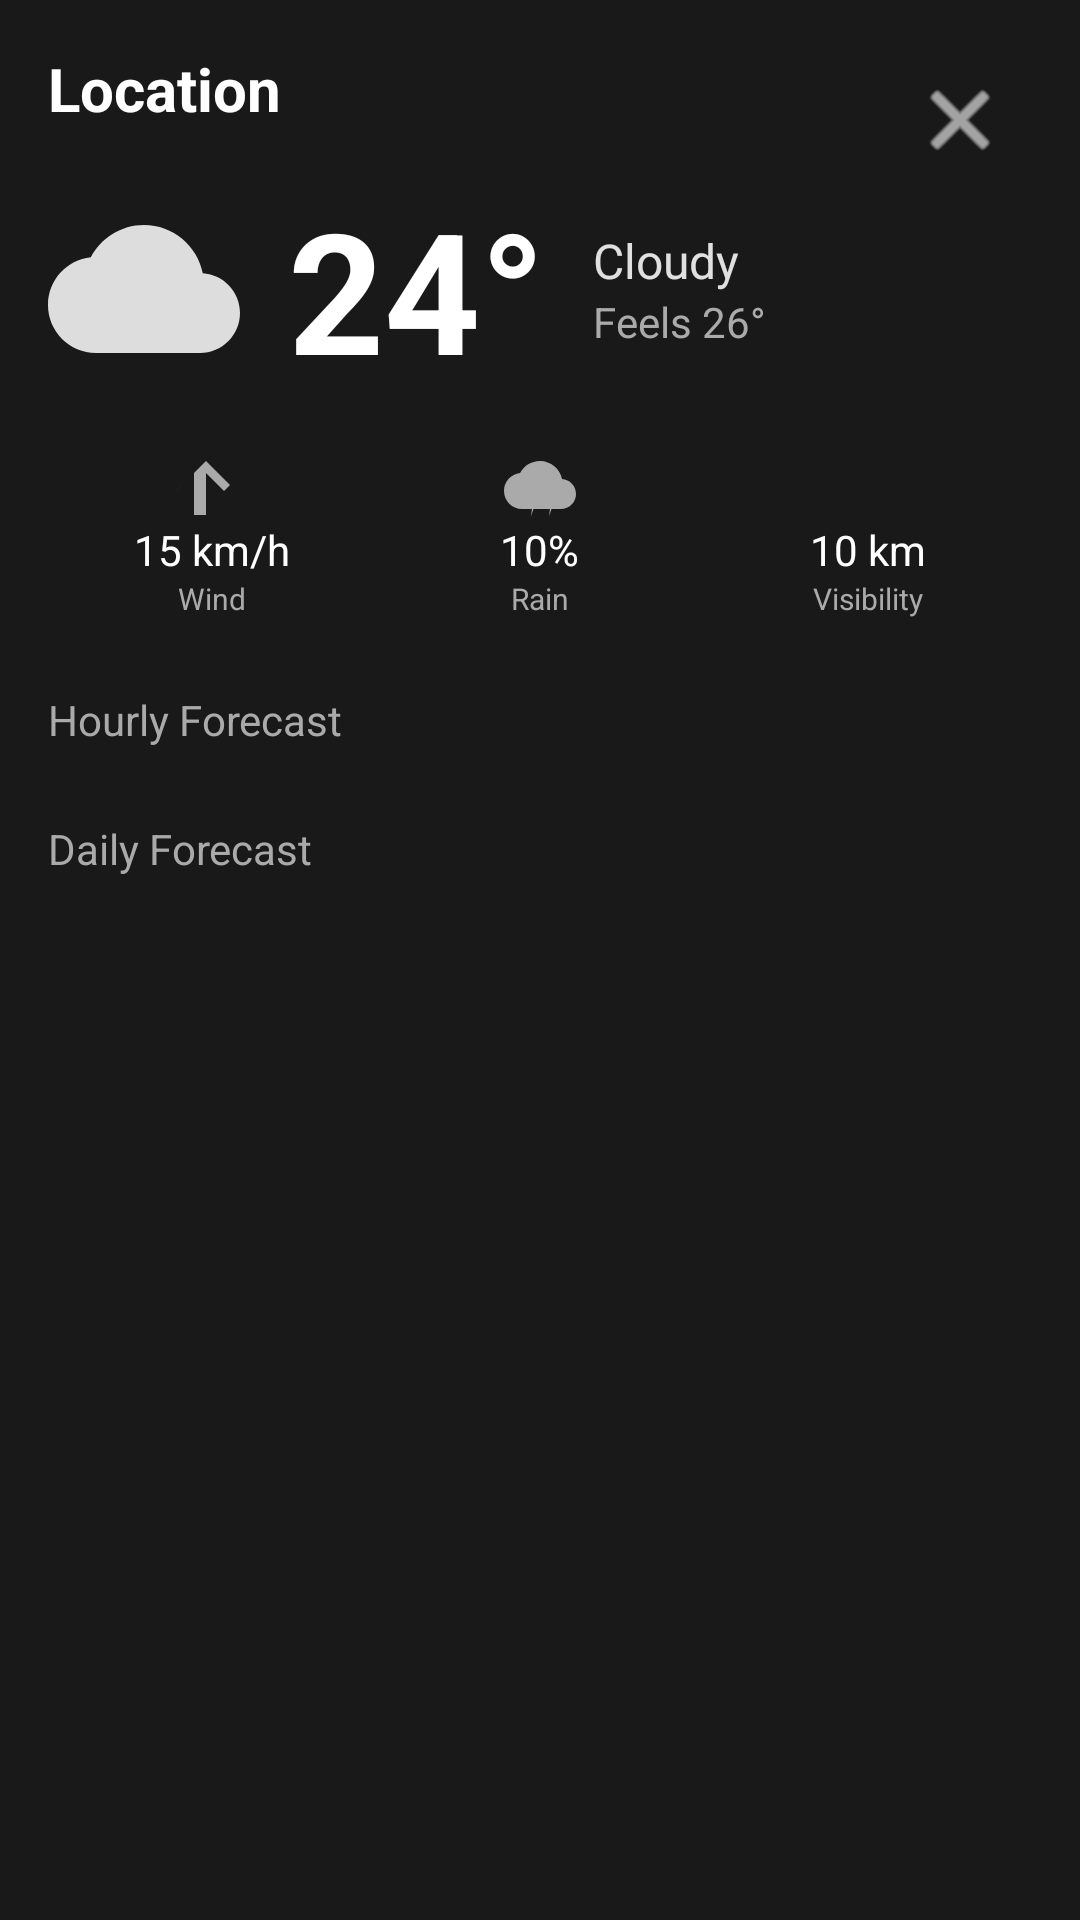

Icon click points for this 1080px x 1920px phone screenshot, format (x,y):
close clear cancel: (960,120)
direction: (212,488)
weather cloudy: (144,289)
